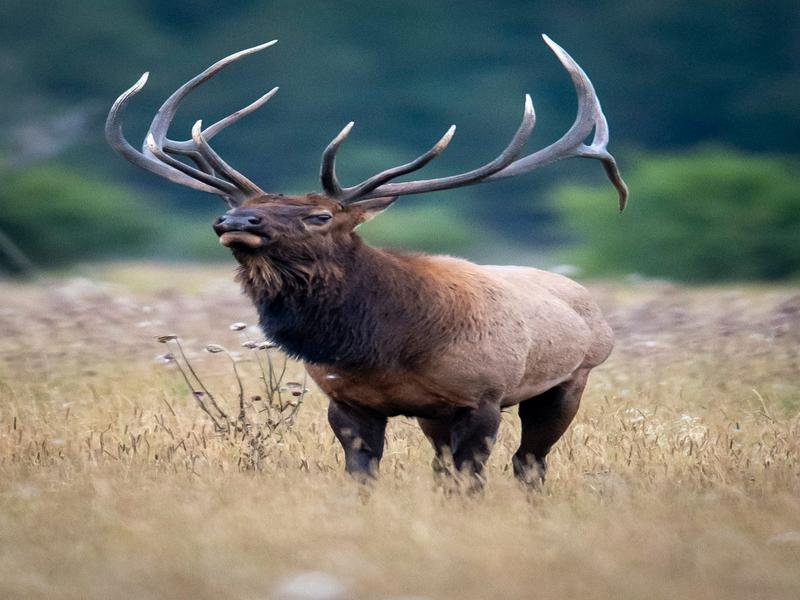elk: (115, 97, 617, 494)
